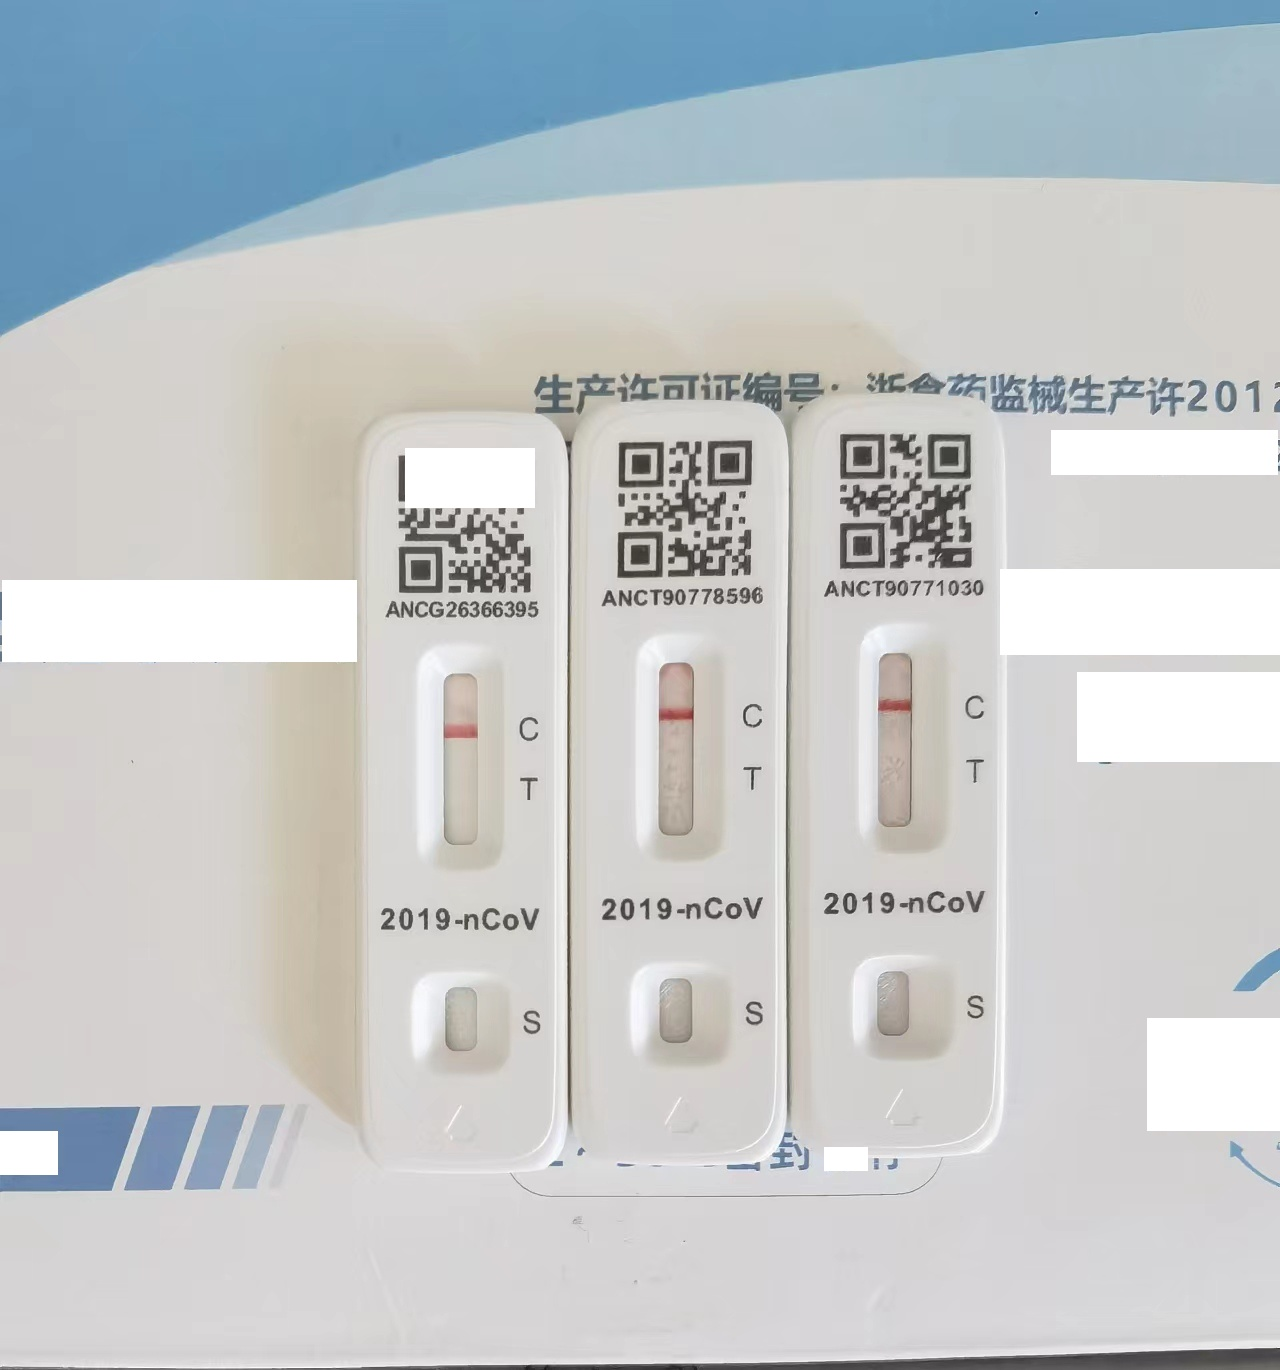negative: (415, 648, 508, 872), (858, 625, 949, 850), (636, 637, 723, 862)
